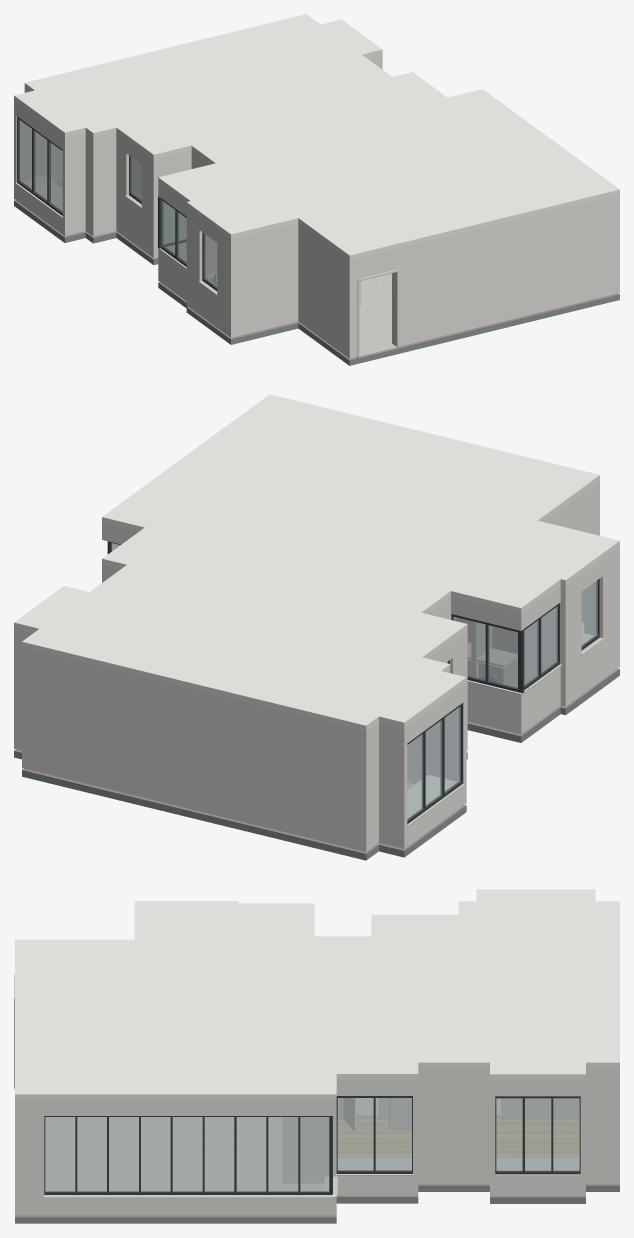
Rendered from architecture-full.glb.
The picture shows the model from 3 angles, top to bottom: view 1: azimuth 30°, elevation 25°; view 2: azimuth 150°, elevation 25°; view 3: azimuth 270°, elevation 25°; orthographic projection. The views are drawn at different scales.
Parts seen in each view (by area): view 1: 顶板_隐藏后可俯视室内, 墙体_0.00-0.45_00, 墙体_1.20-2.40_02, 墙体_2.40-2.80_00, 墙体_1.20-2.40_08, 墙体_0.50-0.95_04, 住宅楼板, 墙体_0.50-0.95_02, 墙体_1.20-2.40_04, 客餐厅阳台及过道_地面, 墙体_0.95-1.20_02, 墙体_0.95-1.20_06 (+16 smaller); view 2: 顶板_隐藏后可俯视室内, 墙体_1.20-2.40_00, 墙体_2.40-2.80_00, 墙体_0.00-0.45_00, 墙体_0.50-0.95_00, 住宅楼板, 墙体_0.95-1.20_00, 墙体_0.50-0.95_04, 墙体_1.20-2.40_07, 墙体_1.20-2.40_08, 晾晒北窗_玻璃, 墙体_0.45-0.50_00 (+11 smaller); view 3: 顶板_隐藏后可俯视室内, 客餐厅阳台及过道_地面, 墙体_0.00-0.45_00, 墙体_2.40-2.80_00, 住宅楼板, 墙体_1.20-2.40_01, 长辈房_地面, 儿童房东飘窗_玻璃, 儿童房东飘窗_玻璃.001, 儿童房_地面, 客餐厅阳台长窗_玻璃, 客餐厅阳台长窗_玻璃.004 (+25 smaller).
Part boxes in pixels (bbox=[...]): 顶板_隐藏后可俯视室内: bbox=[14, 14, 619, 259]; 墙体_0.00-0.45_00: bbox=[14, 166, 619, 358]; 墙体_1.20-2.40_02: bbox=[398, 208, 619, 304]; 墙体_2.40-2.80_00: bbox=[14, 54, 619, 273]; 墙体_1.20-2.40_08: bbox=[217, 237, 357, 316]; 墙体_0.50-0.95_04: bbox=[62, 192, 360, 341]; 住宅楼板: bbox=[14, 200, 619, 365]; 墙体_0.50-0.95_02: bbox=[399, 259, 619, 328]; 墙体_1.20-2.40_04: bbox=[62, 146, 140, 195]; 客餐厅阳台及过道_地面: bbox=[356, 273, 398, 358]; 墙体_0.95-1.20_02: bbox=[399, 250, 619, 313]; 墙体_0.95-1.20_06: bbox=[217, 279, 357, 325]; 顶板_隐藏后可俯视室内: bbox=[14, 394, 619, 731]; 墙体_1.20-2.40_00: bbox=[14, 645, 407, 800]; 墙体_2.40-2.80_00: bbox=[14, 481, 619, 748]; 墙体_0.00-0.45_00: bbox=[14, 648, 619, 851]; 墙体_0.50-0.95_00: bbox=[14, 708, 407, 830]; 住宅楼板: bbox=[14, 668, 619, 860]; 墙体_0.95-1.20_00: bbox=[14, 697, 407, 810]; 墙体_0.50-0.95_04: bbox=[407, 621, 619, 783]; 墙体_1.20-2.40_07: bbox=[471, 592, 581, 654]; 墙体_1.20-2.40_08: bbox=[561, 498, 619, 627]; 晾晒北窗_玻璃: bbox=[488, 625, 517, 688]; 墙体_0.45-0.50_00: bbox=[14, 646, 619, 832]; 顶板_隐藏后可俯视室内: bbox=[15, 889, 619, 1099]; 客餐厅阳台及过道_地面: bbox=[45, 1098, 501, 1190]; 墙体_0.00-0.45_00: bbox=[15, 1101, 619, 1215]; 墙体_2.40-2.80_00: bbox=[15, 1068, 619, 1115]; 住宅楼板: bbox=[15, 1183, 619, 1223]; 墙体_1.20-2.40_01: bbox=[413, 1084, 495, 1145]; 长辈房_地面: bbox=[496, 1117, 579, 1157]; 儿童房东飘窗_玻璃: bbox=[337, 1098, 373, 1170]; 儿童房东飘窗_玻璃.001: bbox=[375, 1098, 411, 1170]; 儿童房_地面: bbox=[338, 1117, 411, 1157]; 客餐厅阳台长窗_玻璃: bbox=[45, 1117, 75, 1191]; 客餐厅阳台长窗_玻璃.004: bbox=[172, 1117, 202, 1191].
Bounding box in the file's own units: 10.67 × 3.13 × 13.28.
Materials: 27 (7 with a texture image).
